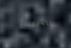eight: (29, 20, 32, 28)
four: (25, 20, 28, 28), (37, 19, 40, 27)
one: (21, 21, 24, 28), (45, 19, 48, 26)
seven: (41, 19, 44, 27)
two: (33, 20, 36, 27)
zero: (17, 21, 20, 29)
